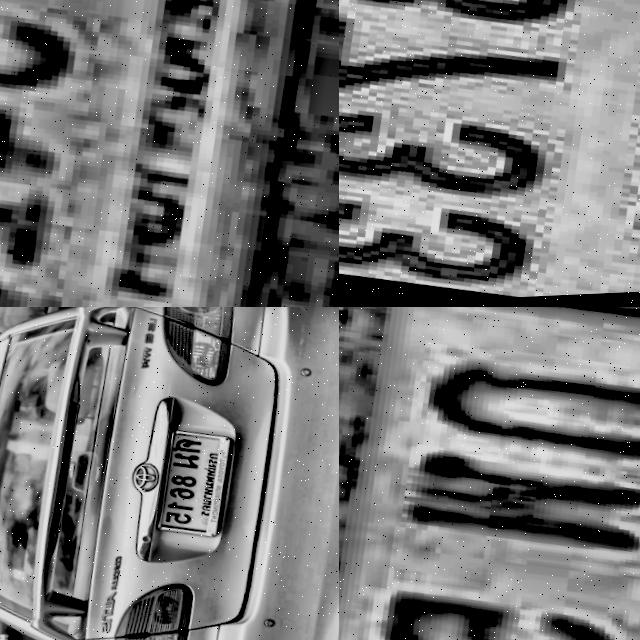license-plate: (0, 0, 331, 307), (339, 307, 640, 640), (339, 0, 640, 307), (144, 428, 234, 545)
